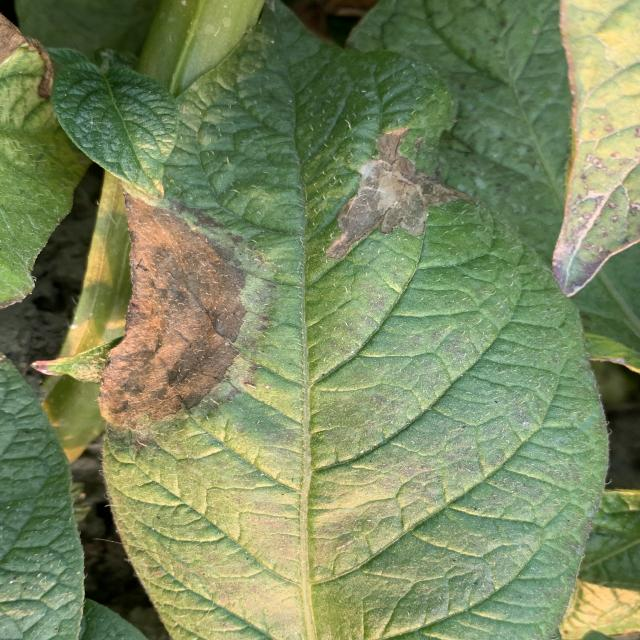lateblight: (98, 194, 245, 429), (327, 128, 472, 259)
